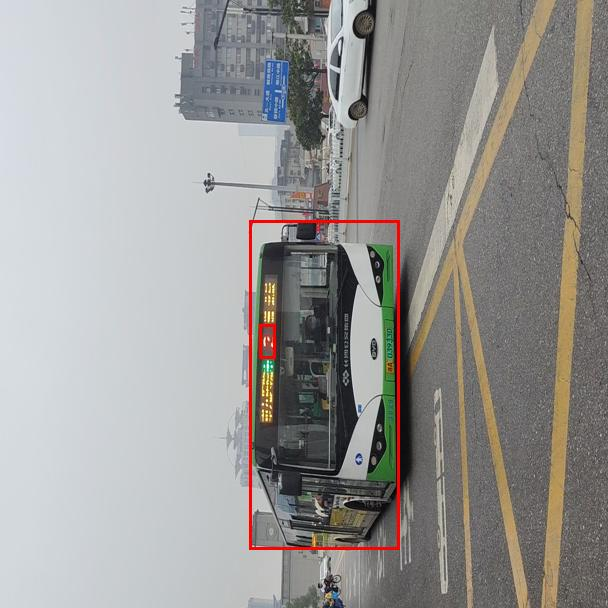bus: (249, 220, 399, 549)
screen: (259, 324, 275, 358)
